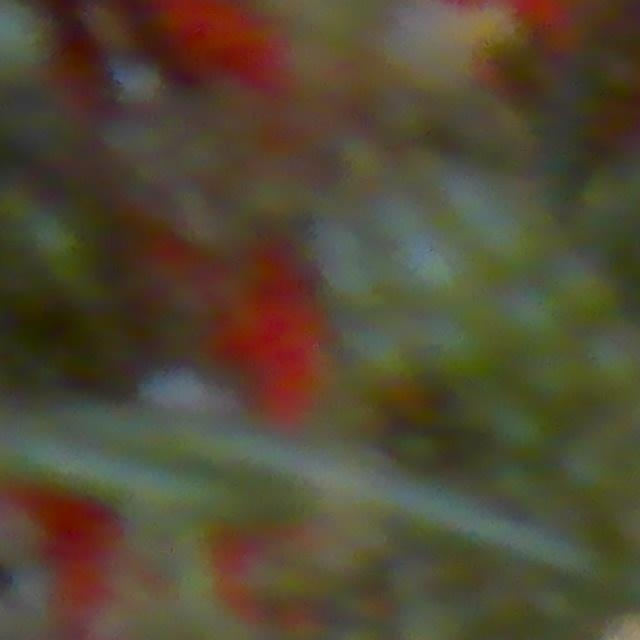SeaGrape: (497, 284, 565, 355), (0, 0, 57, 77), (494, 399, 550, 465), (410, 253, 469, 306), (370, 197, 429, 249)
